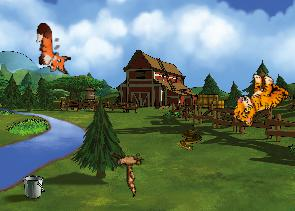eagle: (100, 139, 158, 197)
fox: (35, 22, 71, 75)
tiger: (228, 67, 292, 135)
